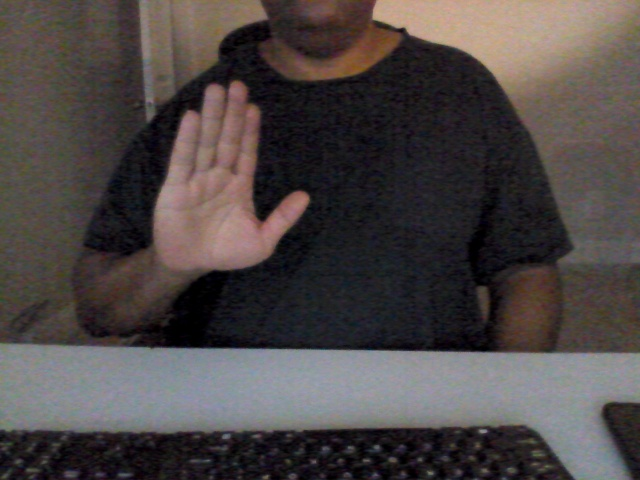hello: (151, 78, 311, 291)
